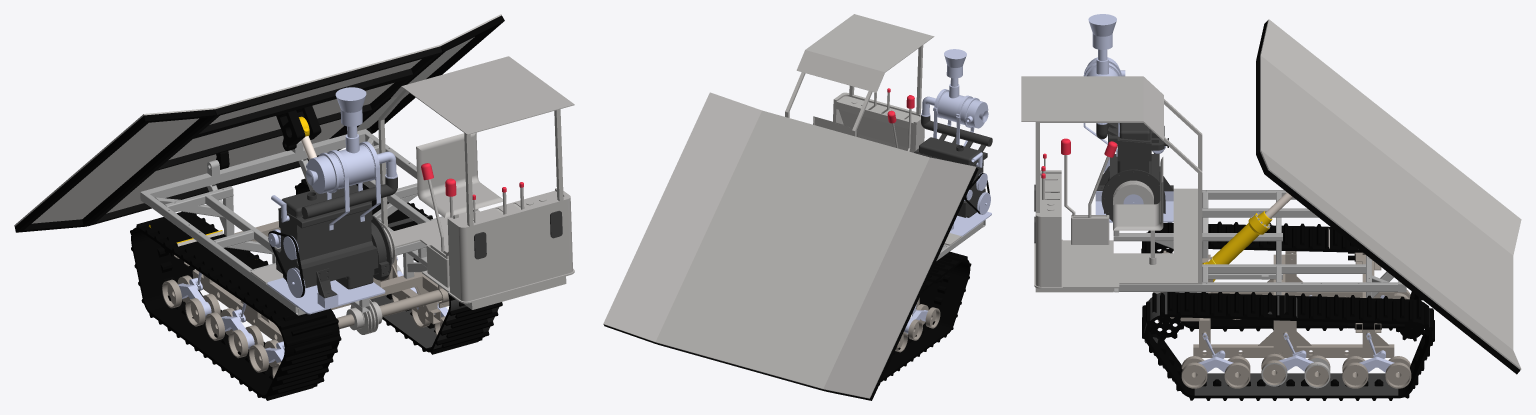
Rendered from pengangkut_gabah.glb.
The picture shows the model from 3 angles, left to right: view 1: azimuth 30°, elevation 25°; view 2: azimuth 150°, elevation 25°; view 3: azimuth 270°, elevation 25°; orthographic projection. The views are drawn at different scales.
Visible parts, largest first — view 1: Solid61, Solid105, Solid159, Solid141, Solid147, Solid125, Solid62, Solid126, Solid156, Solid144, Solid6, Solid85 (+19 smaller); view 2: Solid105, Solid147, Solid61, Solid159, Solid141, Solid144, Solid126, Solid151, Solid134, Solid125, Solid156, Solid29; view 3: Solid105, Solid62, Solid149, Solid147, Solid6, Solid61, Solid141, Solid159, Solid65, Solid127, Solid156, Solid97 (+16 smaller).
Part boxes in pixels (x1,y1,x2,y2): Solid61: [130, 211, 341, 400]; Solid105: [14, 14, 501, 226]; Solid159: [447, 188, 572, 301]; Solid141: [275, 177, 397, 298]; Solid147: [391, 56, 574, 134]; Solid125: [88, 46, 442, 226]; Solid62: [294, 178, 502, 354]; Solid126: [15, 109, 215, 232]; Solid156: [416, 132, 502, 218]; Solid144: [306, 87, 397, 193]; Solid6: [174, 221, 441, 342]; Solid85: [140, 129, 370, 203]; Solid105: [603, 92, 976, 398]; Solid147: [796, 14, 934, 92]; Solid61: [879, 251, 971, 385]; Solid159: [833, 92, 924, 152]; Solid141: [914, 115, 992, 217]; Solid144: [921, 49, 988, 128]; Solid126: [824, 167, 978, 400]; Solid151: [852, 45, 923, 136]; Solid134: [949, 211, 991, 236]; Solid125: [656, 342, 824, 391]; Solid156: [813, 116, 858, 136]; Solid29: [916, 304, 940, 328]; Solid105: [1260, 19, 1521, 369]; Solid62: [1142, 292, 1434, 400]; Solid149: [1034, 188, 1202, 288]; Solid147: [1021, 76, 1163, 139]; Solid6: [1180, 251, 1394, 357]; Solid61: [1141, 221, 1422, 331]; Solid141: [1096, 123, 1173, 221]; Solid159: [1034, 170, 1061, 286]; Solid65: [1119, 282, 1397, 291]; Solid127: [1256, 151, 1520, 374]; Solid156: [1113, 157, 1163, 264]; Solid97: [1202, 264, 1365, 273].
Bounding box in the file's own units: 2.73 × 2.37 × 3.48.
